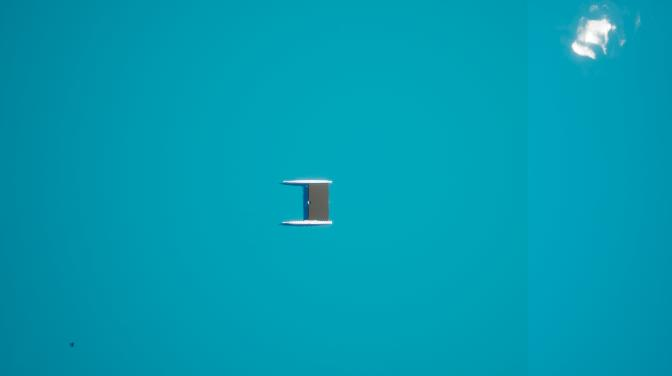boat: (281, 178, 334, 229)
drone: (68, 341, 76, 350)
land_base: (309, 184, 328, 219)
light_reflex: (560, 0, 654, 67)
